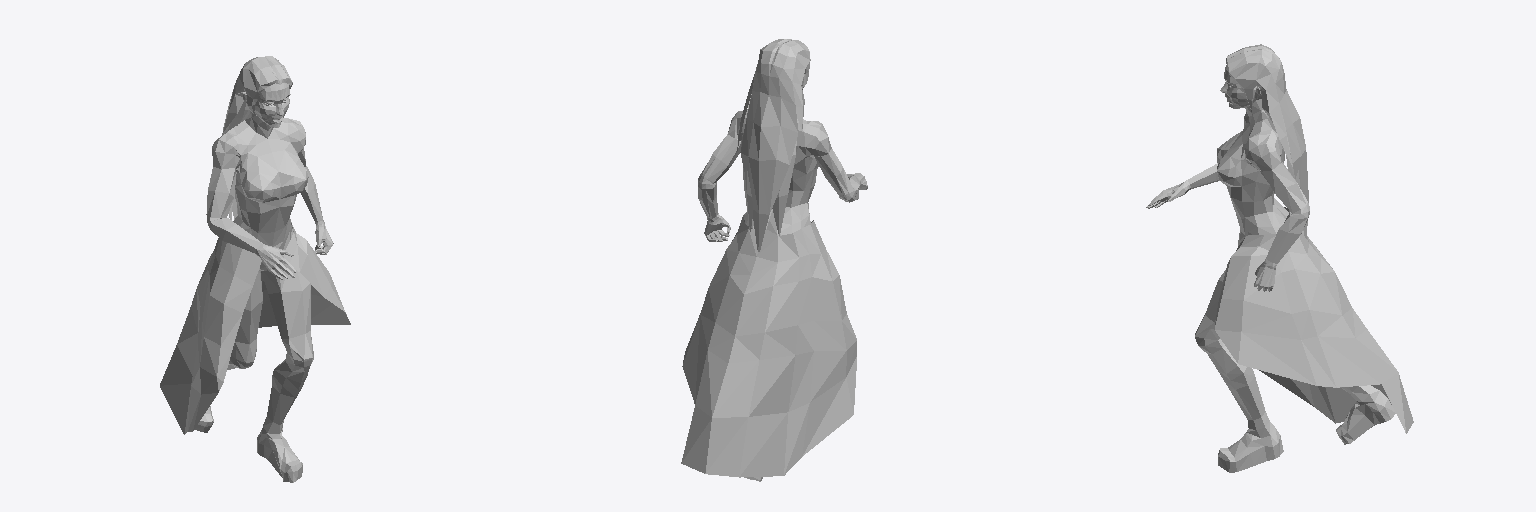
The model's file is running_004.obj.
The picture shows the model from 3 angles: view 1: azimuth 30°, elevation 25°; view 2: azimuth 150°, elevation 25°; view 3: azimuth 270°, elevation 25°; orthographic projection.
Parts seen in each view (by area): view 1: Plane.001_Plane.007, Plane.003_Plane.008, capelli.001_Plane.006; view 2: Plane.003_Plane.008, capelli.001_Plane.006, Plane.001_Plane.007; view 3: Plane.003_Plane.008, Plane.001_Plane.007, capelli.001_Plane.006.
Part boxes in pixels (bbox=[...]): Plane.001_Plane.007: bbox=[194, 66, 333, 482]; Plane.003_Plane.008: bbox=[160, 222, 350, 434]; capelli.001_Plane.006: bbox=[222, 56, 292, 219]; Plane.003_Plane.008: bbox=[681, 212, 856, 477]; capelli.001_Plane.006: bbox=[737, 39, 810, 251]; Plane.001_Plane.007: bbox=[698, 41, 867, 481]; Plane.003_Plane.008: bbox=[1215, 207, 1413, 433]; Plane.001_Plane.007: bbox=[1146, 51, 1395, 472]; capelli.001_Plane.006: bbox=[1226, 44, 1308, 238].
Size of the model in its own units: 2 by 5.32 by 3.12.